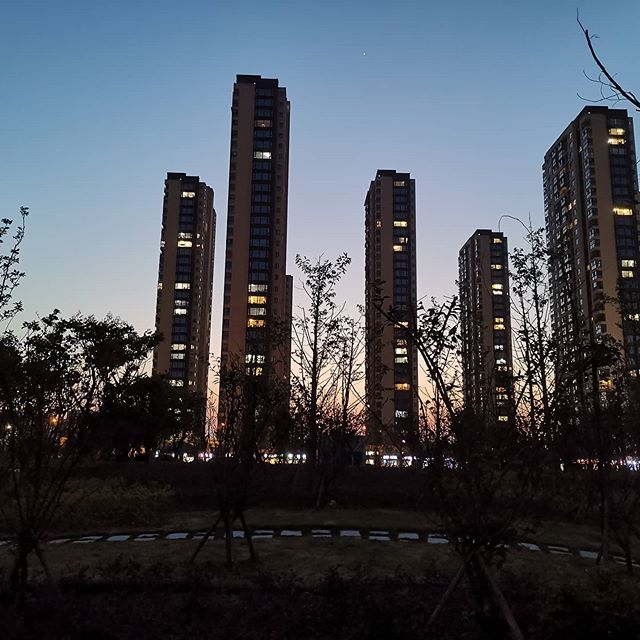building: (542, 108, 640, 444), (217, 63, 296, 450), (150, 161, 224, 442), (360, 167, 428, 440), (455, 230, 520, 435)
sky: (301, 1, 550, 173), (1, 1, 212, 160)
